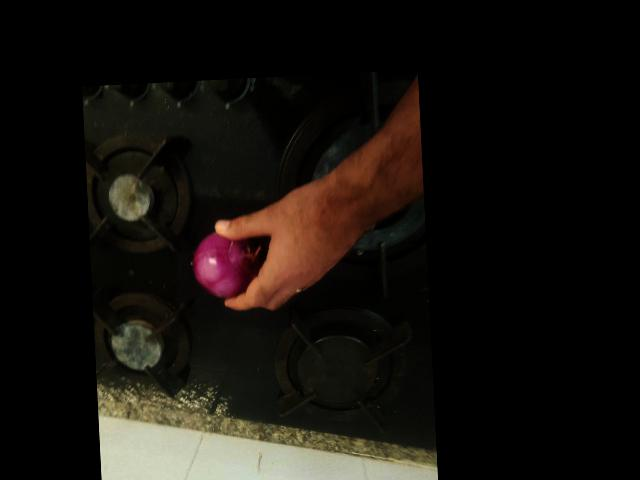onion: (136, 363, 201, 428)
